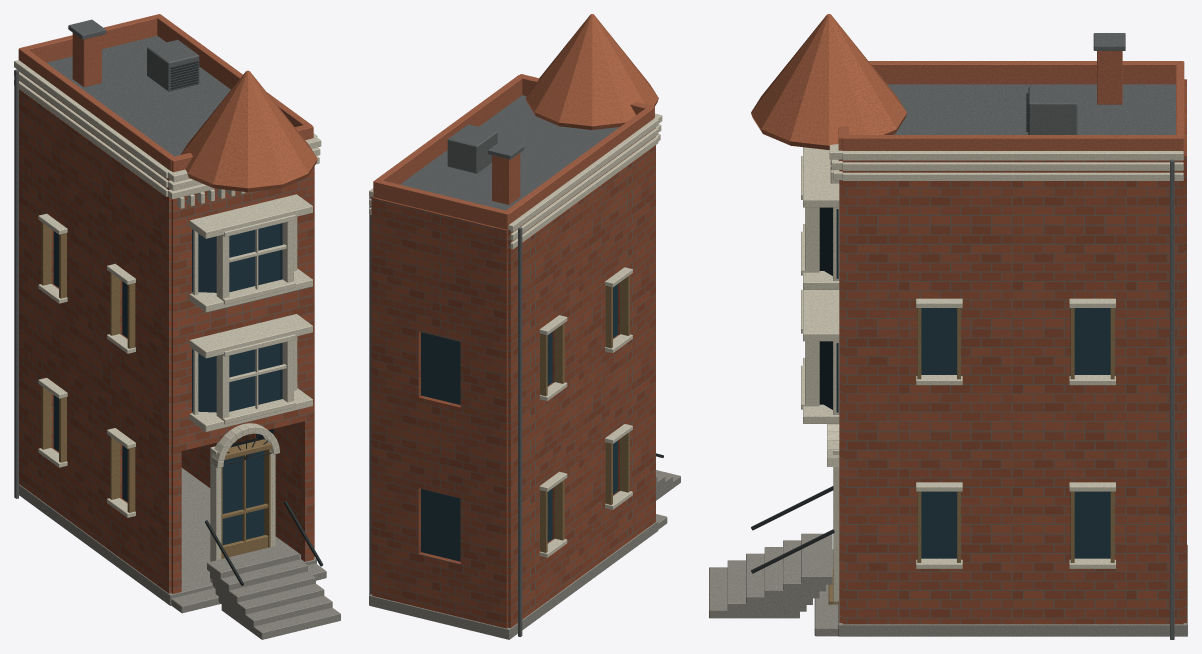
The model's file is VICT6A_lod1.glb.
3 views of the same model, side by side, from view 1: azimuth 30°, elevation 25°; view 2: azimuth 150°, elevation 25°; view 3: azimuth 270°, elevation 25° (orthographic). The views are drawn at different scales.
Visible parts, largest first — view 1: VICT6A_LOD1; view 2: VICT6A_LOD1; view 3: VICT6A_LOD1.
Boxes of the visible parts, x1,y1,x2,y2 form: VICT6A_LOD1: (14,14,340,639); VICT6A_LOD1: (369,14,680,639); VICT6A_LOD1: (709,14,1187,639).
Bounding box in the file's own units: 3.71 × 11.3 × 8.43.
10 materials, 8 textured.
